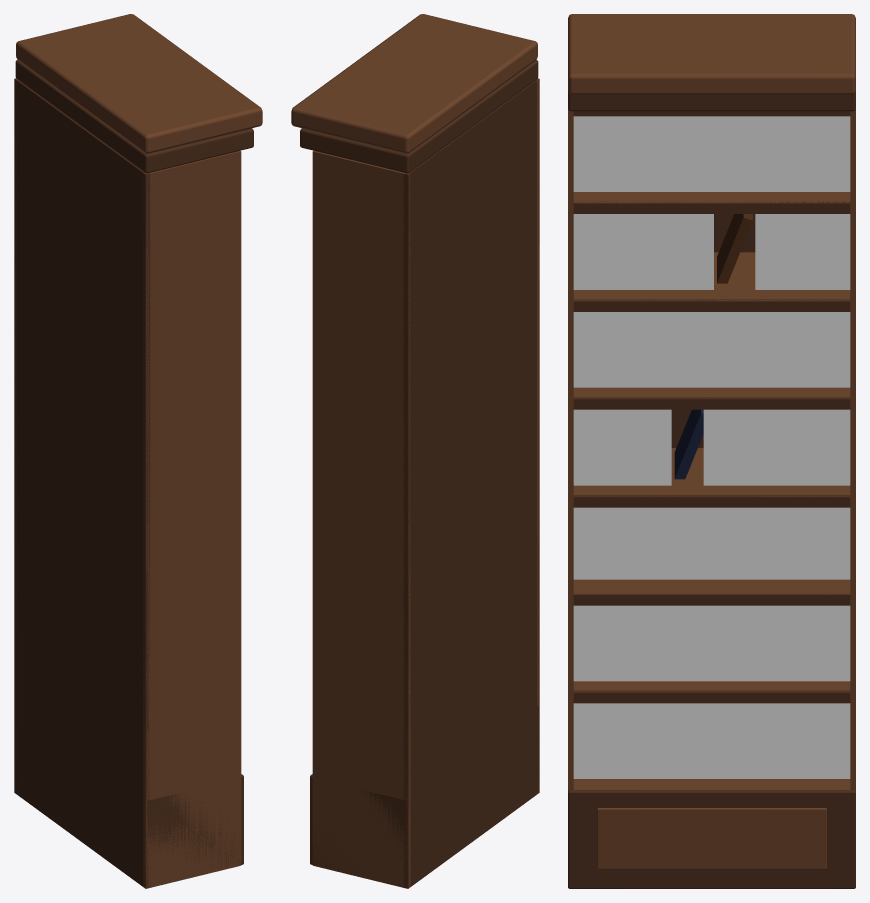
File: bookcase_aisle_b.glb
3 renders of one model, left to right at view 1: azimuth 30°, elevation 25°; view 2: azimuth 150°, elevation 25°; view 3: azimuth 270°, elevation 25°, orthographic. The views are drawn at different scales.
Parts seen in each view (by area): view 1: rueck, seite_a, kranz_o, sockel, kranz, seite_b; view 2: rueck, seite_b, kranz_o, sockel, kranz, seite_a; view 3: kranz_o, buecher2, buecher1, buecher5, buecher7, buecher3, sockel, sockel_fuell, buecher4b, buecher6a, buecher4a, buecher6b (+20 smaller).
Part boxes in pixels (x1=…): rueck: x1=14, y1=78, x2=150, y2=888; seite_a: x1=143, y1=151, x2=241, y2=888; kranz_o: x1=16, y1=14, x2=262, y2=153; sockel: x1=15, y1=709, x2=243, y2=872; kranz: x1=15, y1=60, x2=253, y2=173; seite_b: x1=14, y1=79, x2=17, y2=793; rueck: x1=403, y1=78, x2=539, y2=888; seite_b: x1=312, y1=151, x2=410, y2=888; kranz_o: x1=291, y1=14, x2=537, y2=153; sockel: x1=310, y1=706, x2=538, y2=875; kranz: x1=300, y1=60, x2=538, y2=173; seite_a: x1=536, y1=78, x2=539, y2=794; kranz_o: x1=568, y1=14, x2=855, y2=94; buecher2: x1=573, y1=605, x2=850, y2=681; buecher1: x1=573, y1=703, x2=850, y2=778; buecher5: x1=573, y1=312, x2=850, y2=387; buecher7: x1=573, y1=116, x2=850, y2=191; buecher3: x1=573, y1=507, x2=850, y2=579; sockel: x1=568, y1=790, x2=855, y2=888; sockel_fuell: x1=597, y1=808, x2=826, y2=869; buecher4b: x1=703, y1=409, x2=850, y2=485; buecher6a: x1=573, y1=214, x2=713, y2=289; buecher4a: x1=573, y1=409, x2=671, y2=485; buecher6b: x1=755, y1=214, x2=850, y2=289.
Bounding box in the file's own units: 0.52 × 3.16 × 1.
